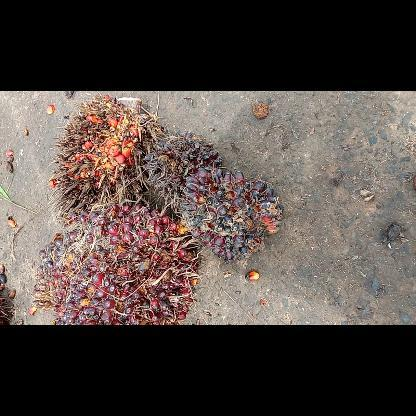TBS abnormal: (177, 165, 285, 266), (142, 130, 224, 209)
TBS masak: (29, 196, 202, 324)
Terlalu masak: (48, 92, 162, 224)
